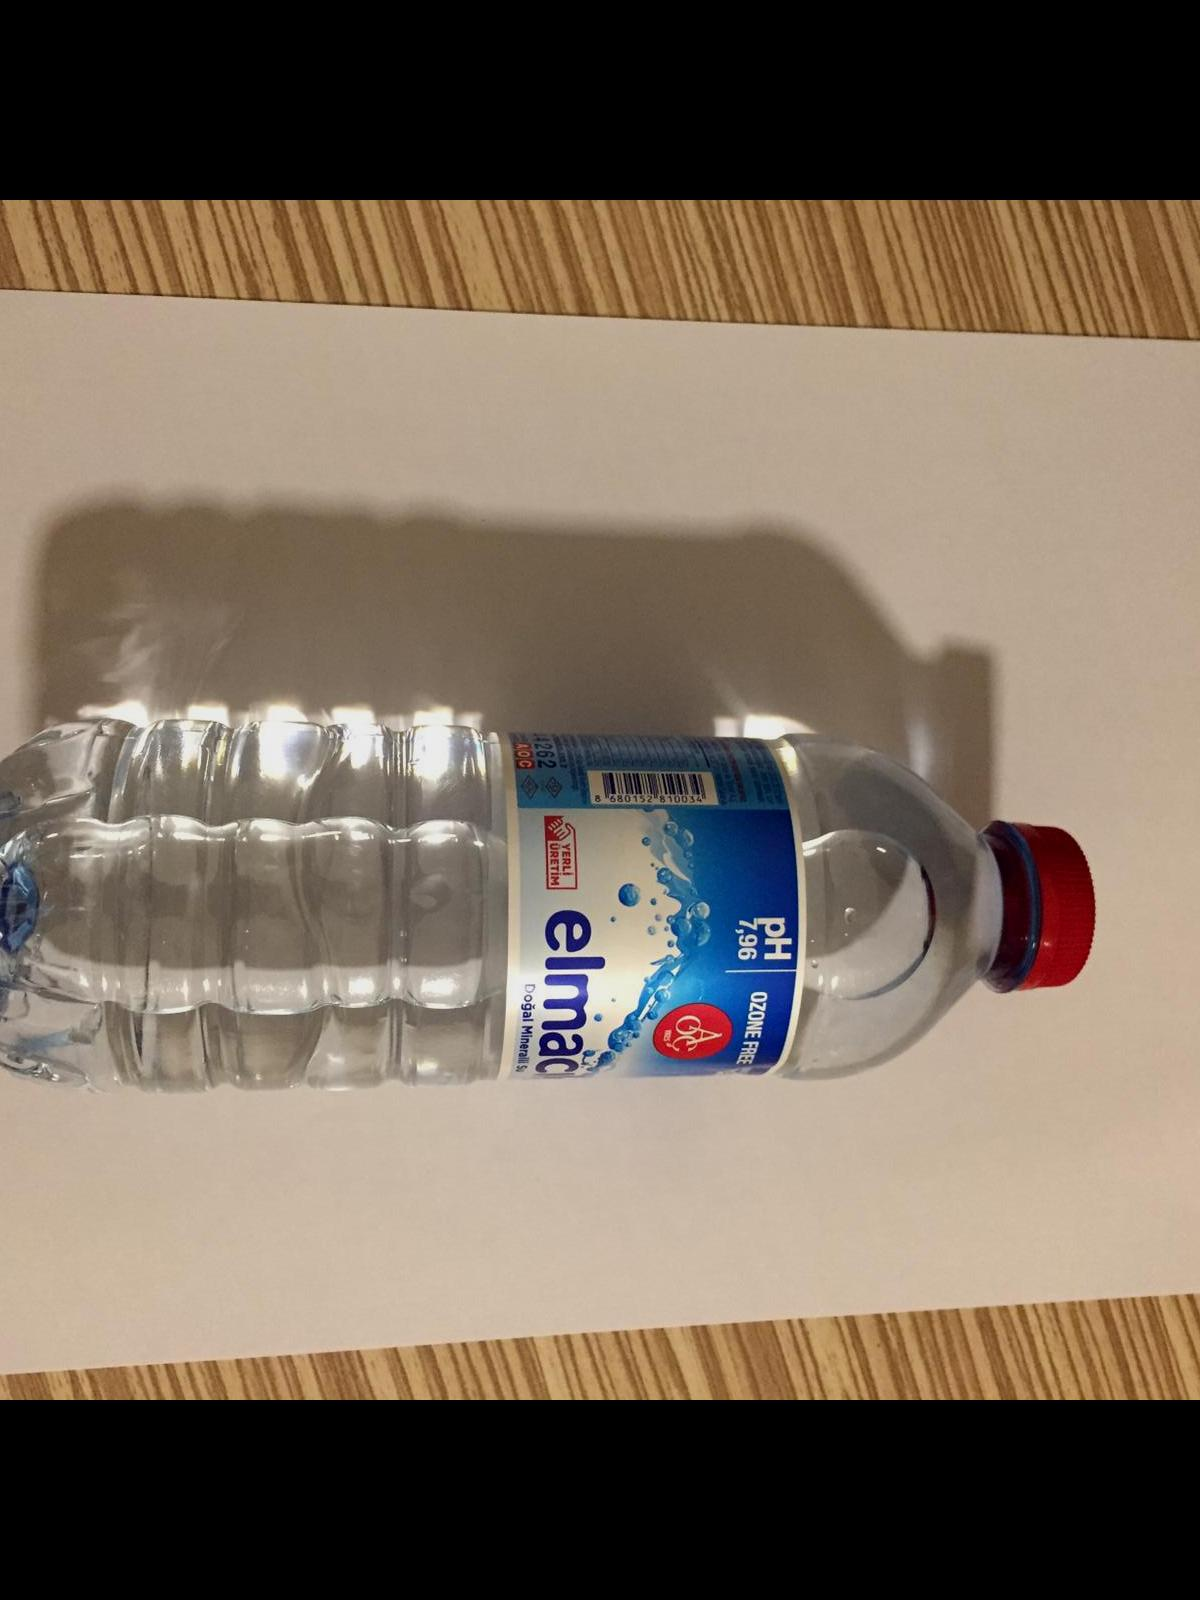bottle: (0, 714, 1095, 1087)
